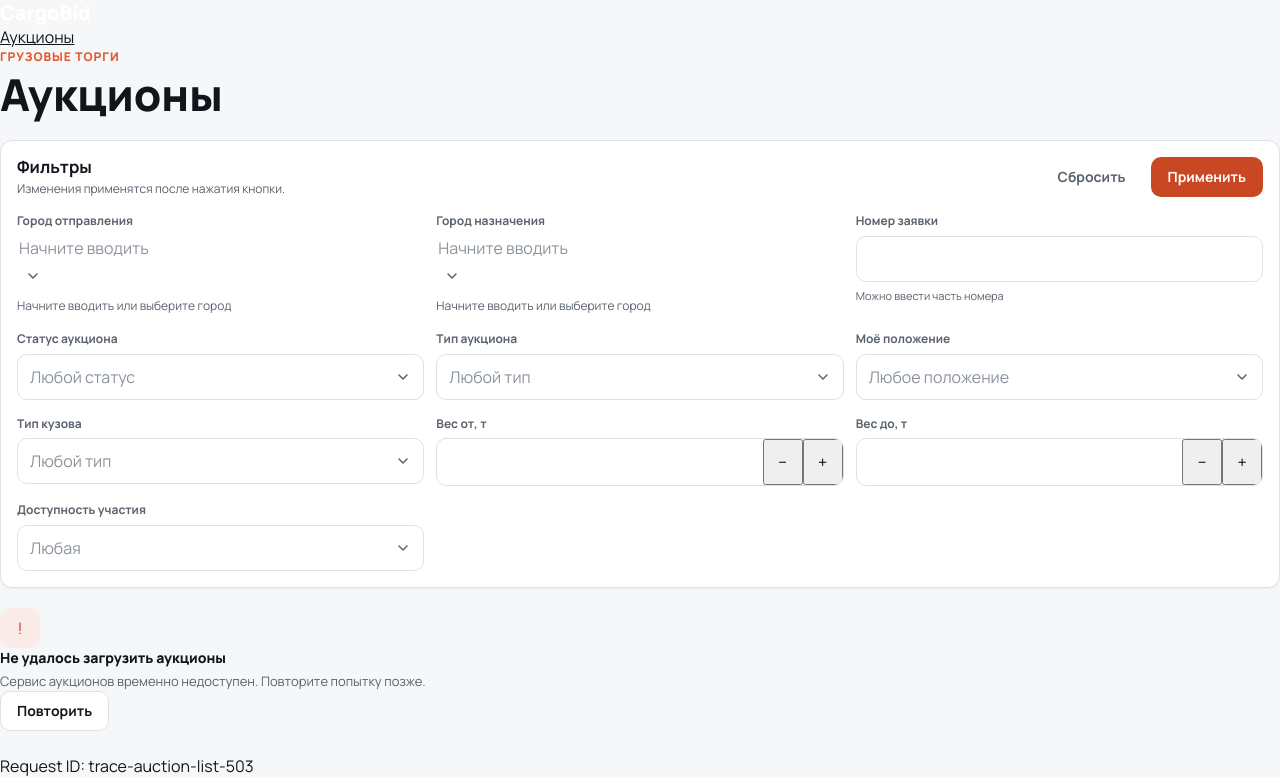
Test: auction list › recovers from an API error after retry
This screenshot has width=1280, height=777.
Expected: the heading "Не удалось загрузить аукционы" is shown, [0,648,226,667]
Expected: the text "Request ID: trace-auction-list-503" is shown, [0,755,254,776]
Click the button "Повторить". click: (55, 711)
box: [0,691,109,731]
(page scrolled)
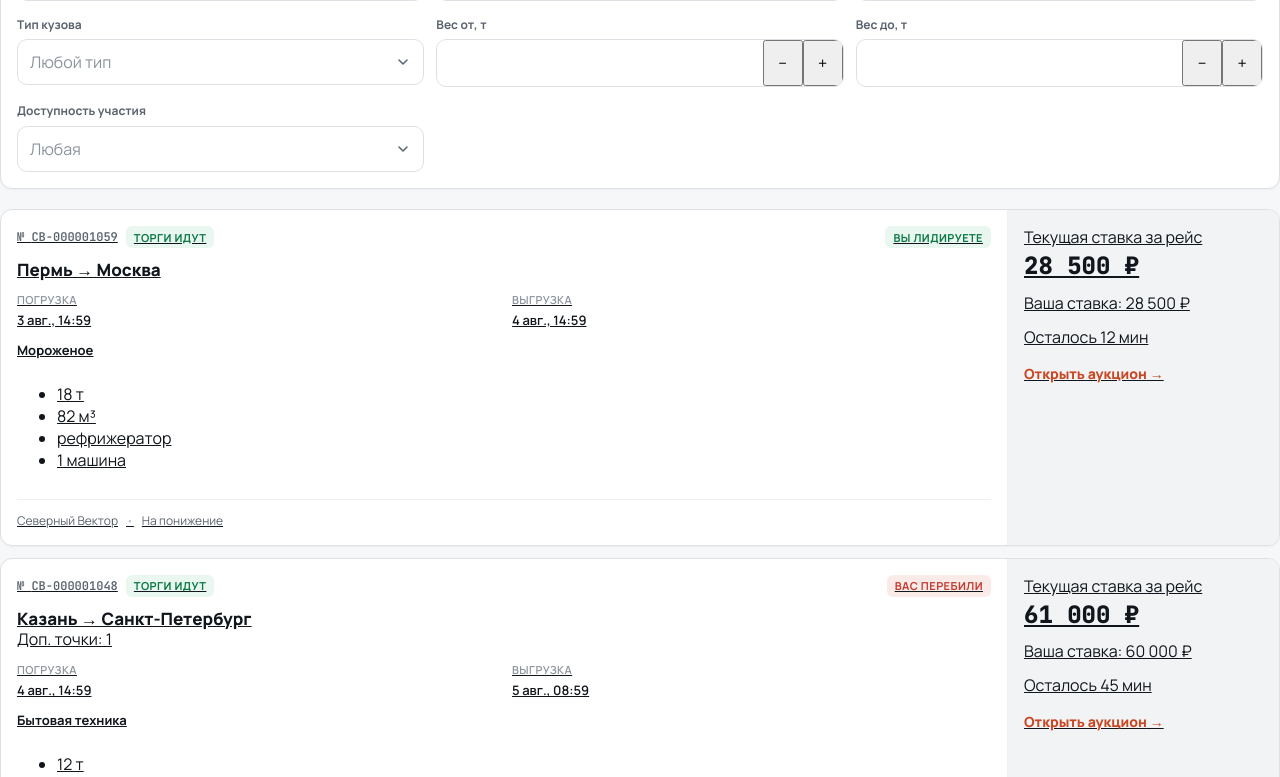
Expected: the link with aria-label "Открыть CB-000001059: Пермь → Москва" is shown, [0,209,1279,546]
